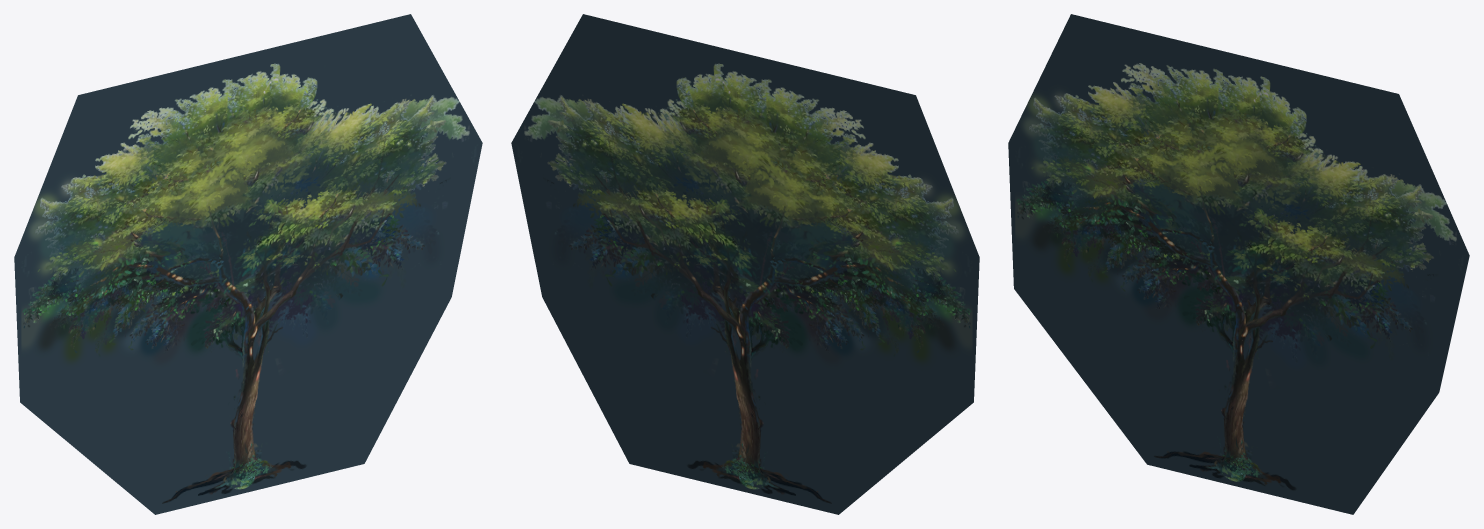
The model's file is Jiubajie_tree01_fbx.FBX.
The picture shows the model from 3 angles, left to right: view 1: azimuth 30°, elevation 25°; view 2: azimuth 150°, elevation 25°; view 3: azimuth 330°, elevation 25°; orthographic projection.
Parts seen in each view (by area): view 1: Jiubajie_tree01_fbx; view 2: Jiubajie_tree01_fbx; view 3: Jiubajie_tree01_fbx.
Part boxes in pixels (x1,y1,x2,y2): Jiubajie_tree01_fbx: (14,14,482,514); Jiubajie_tree01_fbx: (511,14,979,514); Jiubajie_tree01_fbx: (1008,14,1469,514).
Size of the model in its own units: 5.69 by 5.09 by 5.45e-07.
